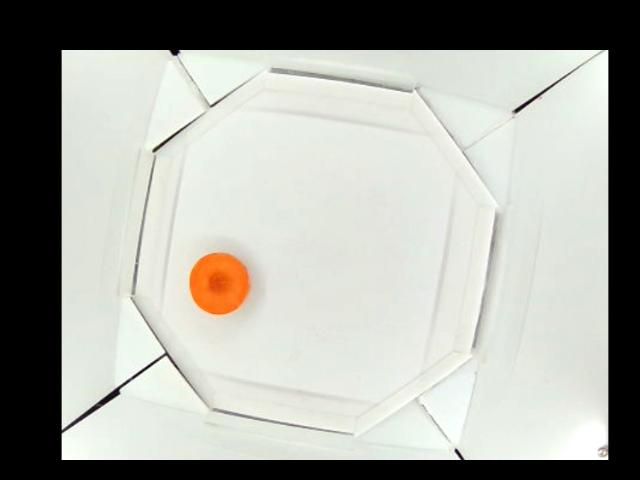Carrot: (188, 253, 250, 314)
